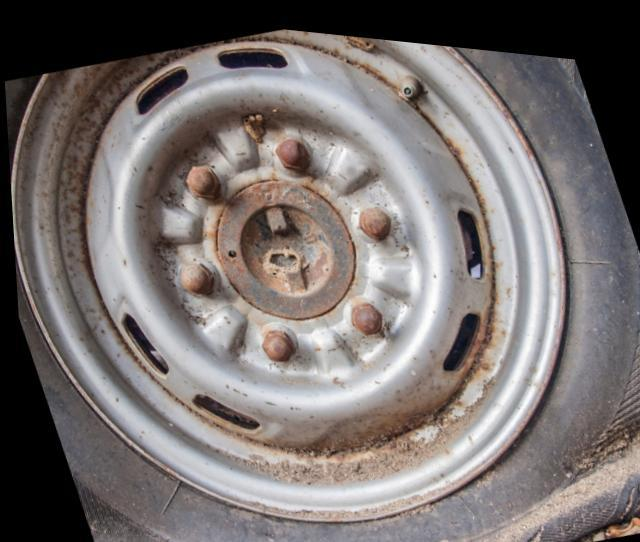tire flat: (4, 23, 640, 542)
